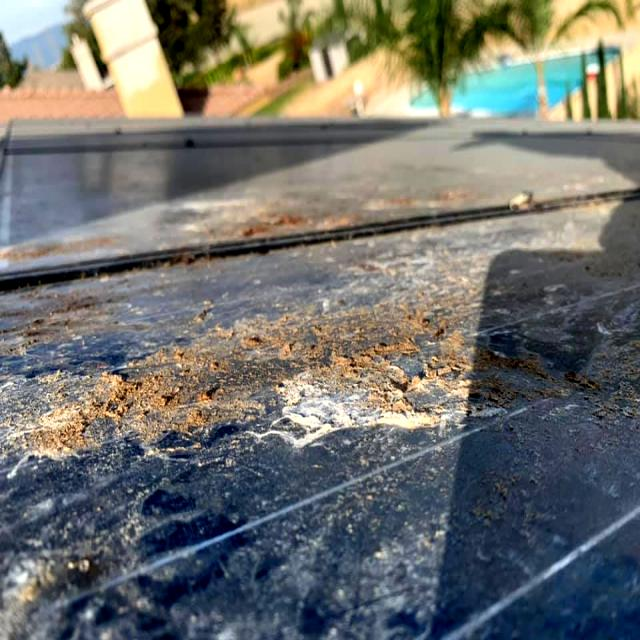bird: (241, 303, 479, 432), (45, 301, 214, 446), (495, 307, 614, 420)
